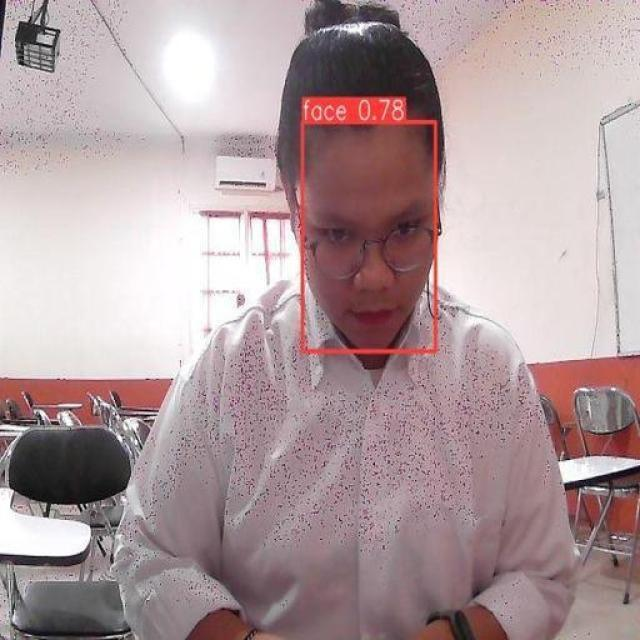bareface: (265, 51, 470, 340)
